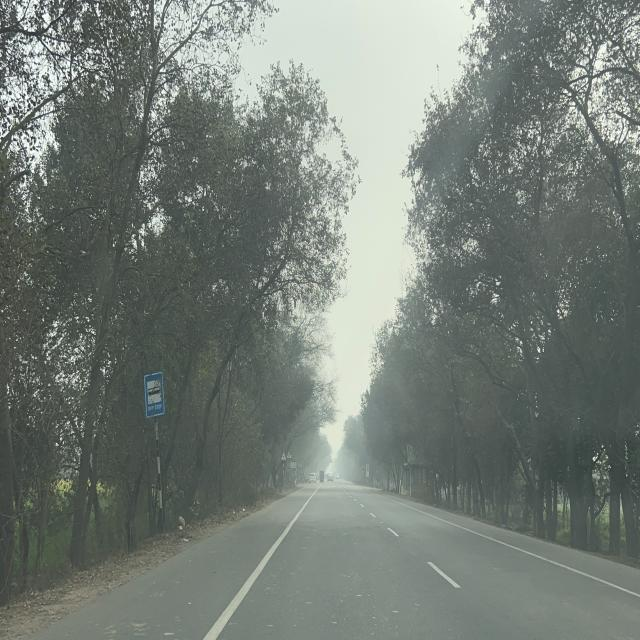INFORMATION: (144, 371, 166, 416)
